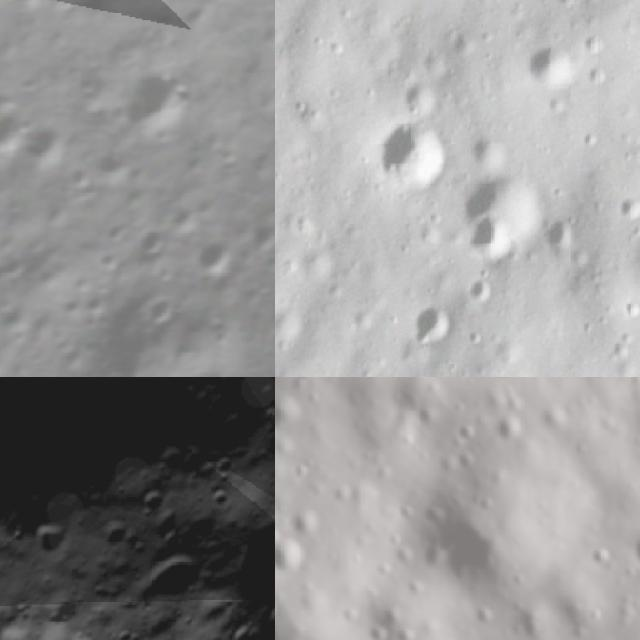crater: (100, 40, 218, 163), (452, 164, 547, 260), (128, 535, 218, 626), (372, 112, 454, 192), (178, 217, 253, 294), (7, 102, 81, 180), (75, 130, 140, 196), (130, 274, 193, 340), (20, 509, 80, 569), (524, 36, 584, 94), (84, 507, 142, 565), (126, 212, 182, 267), (24, 607, 112, 640), (275, 377, 318, 441), (126, 477, 178, 529), (459, 217, 514, 266), (0, 93, 37, 165), (408, 298, 458, 349), (397, 71, 452, 111), (275, 521, 312, 575), (198, 477, 243, 521), (195, 616, 275, 640), (544, 206, 575, 250), (617, 523, 640, 582), (617, 190, 640, 224), (464, 272, 491, 298)
